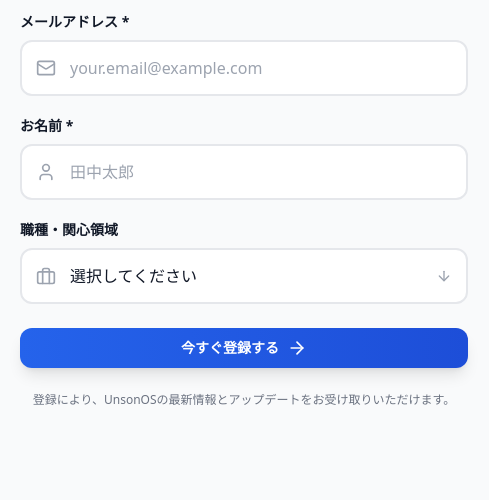
it: Form-API Integration Tests › Error Handling Integration › should handle API server errors gracefully
Type "error@example.com" into the field labelled "メールアドレス *" at [244, 68], box [20, 40, 468, 96]
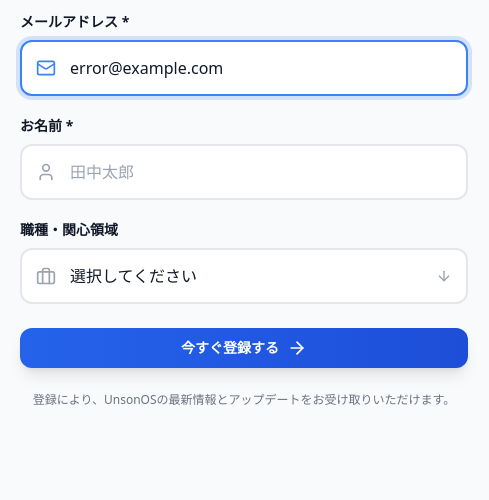
Type "エラーユーザー" into the field labelled "お名前 *" at [244, 172], box [20, 144, 468, 200]
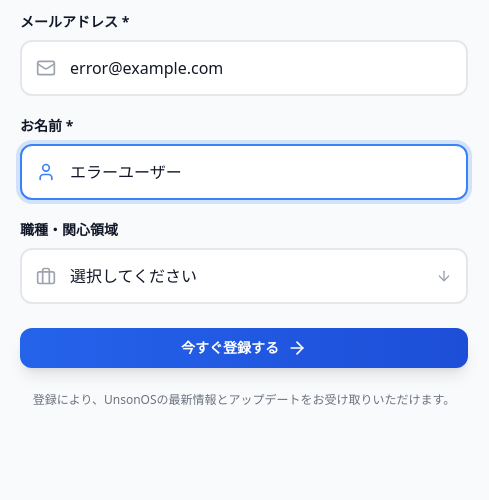
Click the button "今すぐ登録する" at [244, 348], box [20, 328, 468, 368]
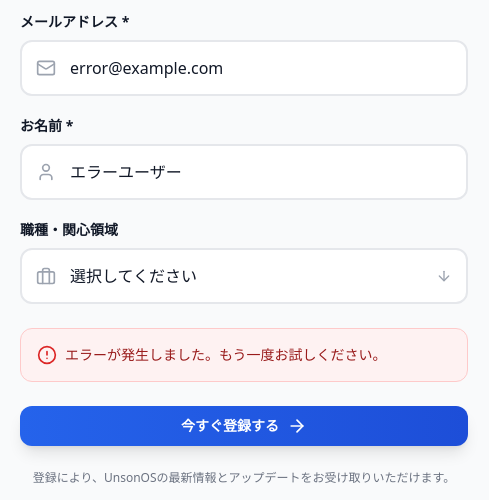
Expected: the button "今すぐ登録する" is enabled, [20, 406, 468, 446]
Expected: the text "エラーが発生しました。もう一度お試しください。" is shown, [65, 345, 387, 365]
